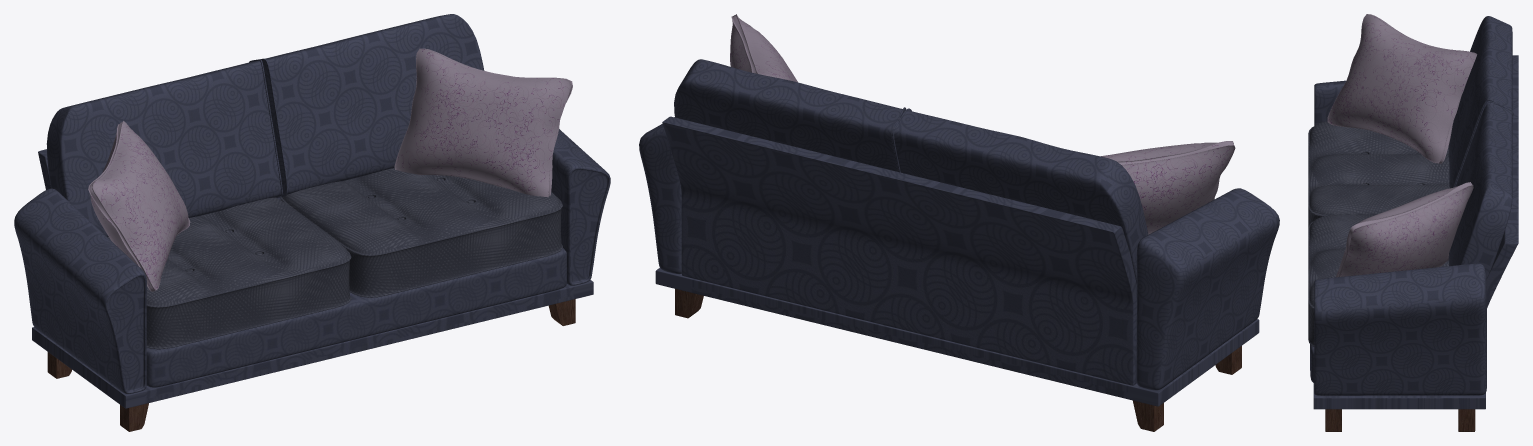
The model's file is sofa2.gltf.
3 renders of one model, left to right at view 1: azimuth 30°, elevation 25°; view 2: azimuth 150°, elevation 25°; view 3: azimuth 270°, elevation 25°, orthographic. The views are drawn at different scales.
Parts seen in each view (by area): view 1: polySurface6, polySurface9, polySurface10, polySurface5, polySurface8, polySurface3, pCube1, polySurface7, pCube4, polySurface4, pCube25; view 2: pCube13, polySurface3, polySurface9, polySurface10, pCube4, polySurface7, polySurface4, polySurface8, pCube25; view 3: polySurface4, polySurface7, polySurface5, polySurface8, polySurface10, polySurface9, polySurface6, pCube4, pCube13, polySurface3, pCube25.
Boxes of the visible parts, x1,y1,x2,y2 form: polySurface6: (280, 168, 562, 297); polySurface9: (46, 59, 283, 237); polySurface10: (256, 14, 484, 196); polySurface5: (108, 197, 351, 349); polySurface8: (394, 48, 572, 197); polySurface3: (14, 188, 146, 393); pCube1: (146, 248, 566, 387); polySurface7: (88, 121, 190, 291); pCube4: (32, 280, 593, 408); polySurface4: (551, 129, 610, 285); pCube25: (47, 299, 575, 431); pCube13: (662, 116, 1136, 385); polySurface3: (1136, 188, 1279, 390); polySurface9: (892, 108, 1148, 283); polySurface10: (674, 59, 906, 171); pCube4: (655, 268, 1259, 406); polySurface7: (1101, 141, 1235, 234); polySurface4: (639, 117, 681, 274); polySurface8: (730, 14, 797, 82); pCube25: (675, 289, 1241, 431); polySurface4: (1314, 263, 1486, 395); polySurface7: (1327, 14, 1477, 163); polySurface5: (1308, 121, 1449, 227); polySurface8: (1336, 182, 1473, 277); polySurface10: (1448, 101, 1513, 278); polySurface9: (1448, 16, 1513, 188); polySurface6: (1308, 214, 1448, 346); pCube4: (1313, 383, 1485, 409); pCube13: (1486, 55, 1518, 307); polySurface3: (1314, 80, 1345, 125); pCube25: (1325, 409, 1475, 431).
Size of the model in its own units: 2 by 0.9523 by 0.7838.
Materials: 12 (12 with a texture image).
